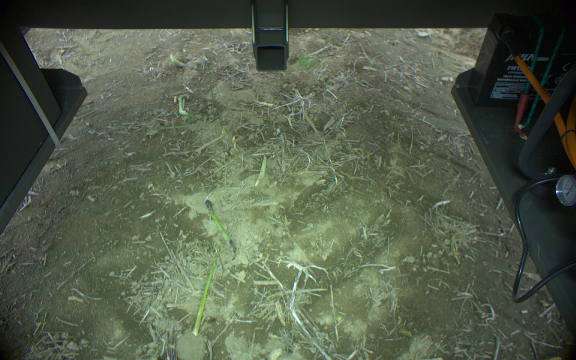aspa: (192, 248, 219, 335), (205, 198, 234, 254)
